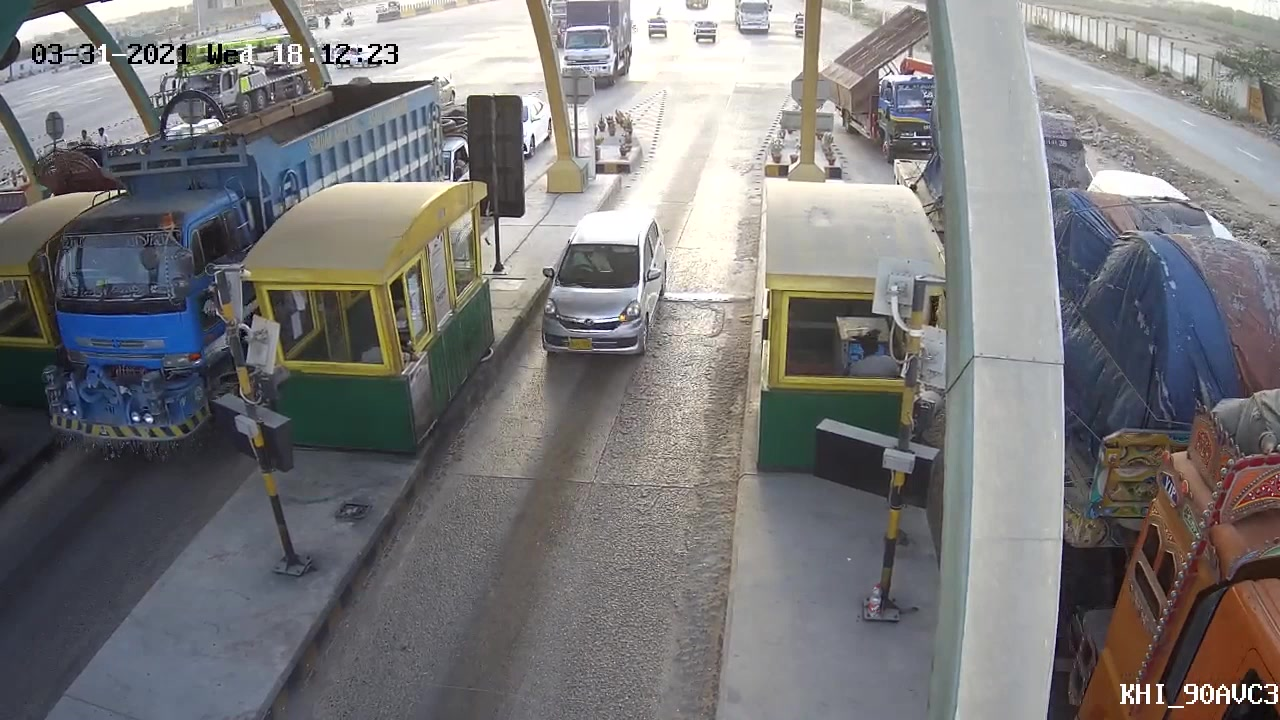F1: (532, 209, 674, 363)
